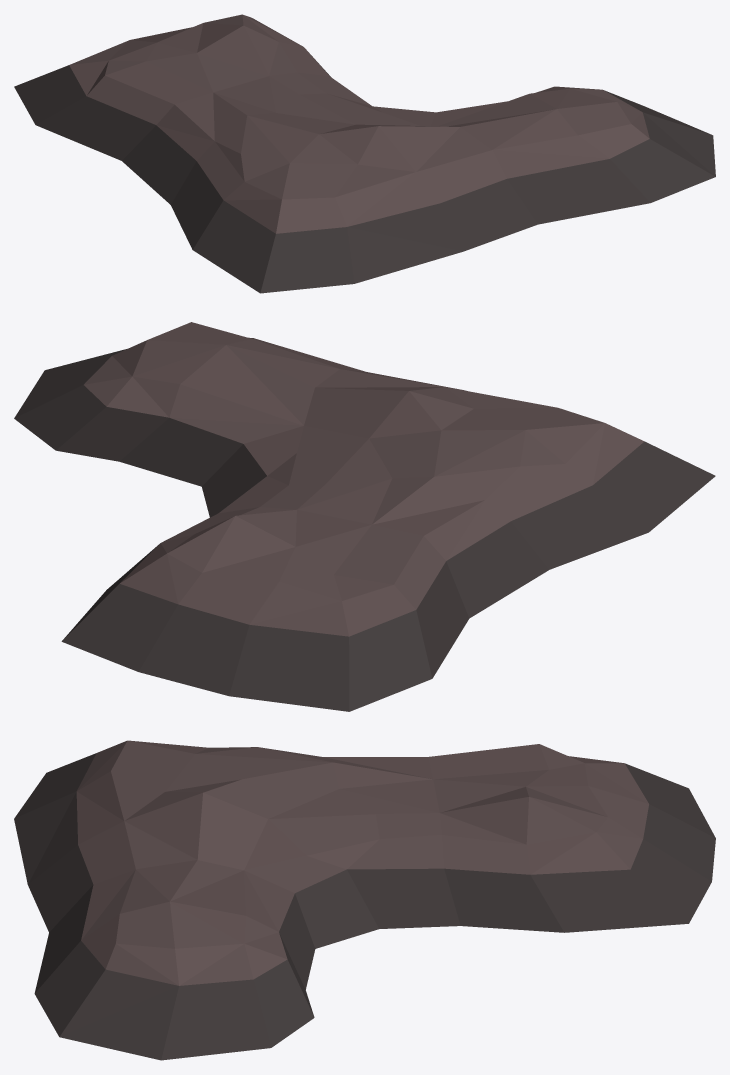
The model's file is TB_D_Env_Mound_Corner_C.FBX.
The picture shows the model from 3 angles, top to bottom: view 1: azimuth 30°, elevation 25°; view 2: azimuth 150°, elevation 25°; view 3: azimuth 270°, elevation 25°; orthographic projection. The views are drawn at different scales.
Visible parts, largest first — view 1: TB_D_Env_Mound_Corner_C; view 2: TB_D_Env_Mound_Corner_C; view 3: TB_D_Env_Mound_Corner_C.
Part boxes in pixels (box(x1,y1,x2,y2)): TB_D_Env_Mound_Corner_C: box(14, 14, 715, 293); TB_D_Env_Mound_Corner_C: box(14, 322, 715, 711); TB_D_Env_Mound_Corner_C: box(14, 740, 715, 1060).
Bounding box in the file's own units: 24.99 × 3.45 × 25.45.
